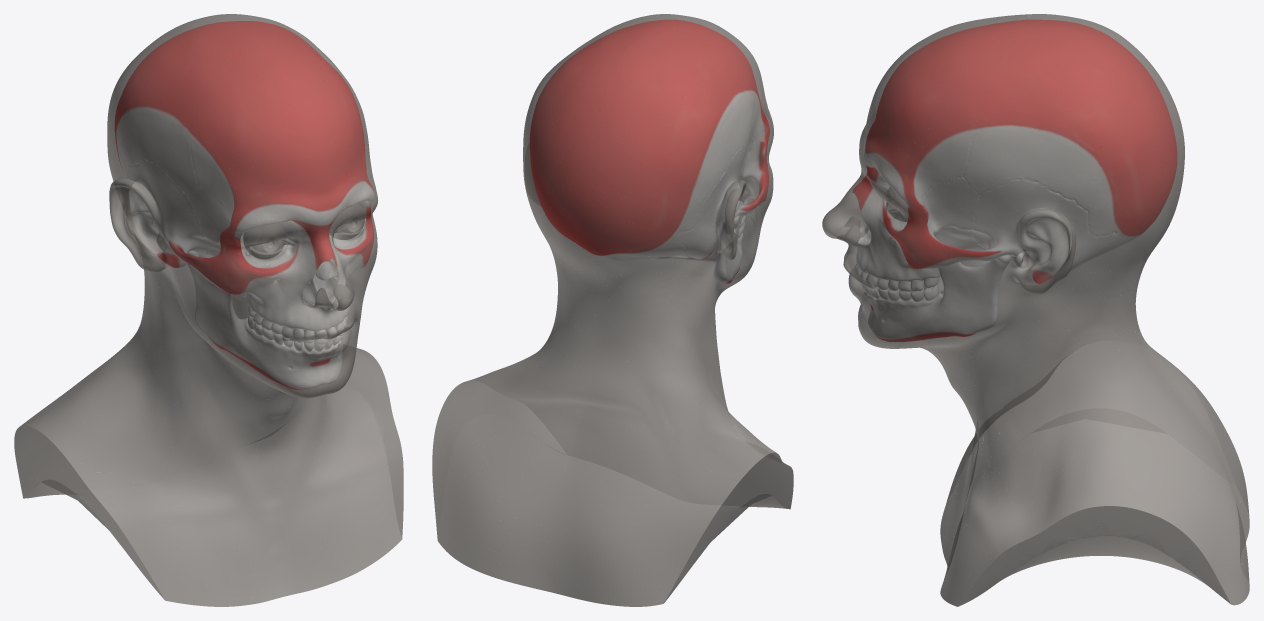
Rendered from 头像_带标注_骨点分区_opt.glb.
3 views of the same model, side by side, from view 1: azimuth 30°, elevation 25°; view 2: azimuth 150°, elevation 25°; view 3: azimuth 270°, elevation 25° (orthographic). The views are drawn at different scales.
Parts seen in each view (by area): view 1: Skin, Skin_1, Skin_2, defaultMat, defaultMat_1, defaultMat_2, defaultMat_3; view 2: Skin, Skin_1, Skin_2, defaultMat_2, defaultMat, defaultMat_1, defaultMat_3; view 3: Skin, Skin_1, defaultMat_1, defaultMat_2, Skin_2, defaultMat, defaultMat_3.
Boxes of the visible parts, left/top/right/bottom form: Skin: left=18, top=14, right=403, bottom=606; Skin_1: left=14, top=19, right=403, bottom=606; Skin_2: left=14, top=14, right=402, bottom=606; defaultMat: left=116, top=26, right=373, bottom=384; defaultMat_1: left=115, top=21, right=373, bottom=390; defaultMat_2: left=115, top=21, right=373, bottom=388; defaultMat_3: left=116, top=21, right=373, bottom=388; Skin: left=432, top=14, right=793, bottom=606; Skin_1: left=432, top=15, right=782, bottom=606; Skin_2: left=434, top=15, right=793, bottom=604; defaultMat_2: left=530, top=20, right=768, bottom=282; defaultMat: left=534, top=20, right=769, bottom=283; defaultMat_1: left=533, top=21, right=768, bottom=283; defaultMat_3: left=531, top=20, right=767, bottom=276; Skin: left=822, top=14, right=1249, bottom=606; Skin_1: left=825, top=14, right=1249, bottom=606; defaultMat_1: left=855, top=29, right=1172, bottom=341; defaultMat_2: left=854, top=20, right=1176, bottom=341; Skin_2: left=823, top=14, right=1248, bottom=600; defaultMat: left=853, top=20, right=1176, bottom=341; defaultMat_3: left=856, top=21, right=1173, bottom=336.
Bounding box in the file's own units: 0.193 × 0.3 × 0.2134.
2 materials, 1 textured.
